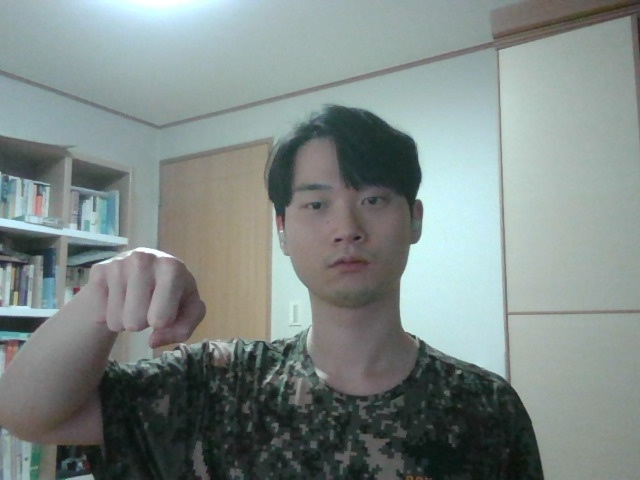yes: (65, 229, 236, 384)
